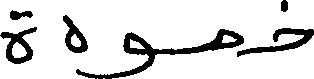ة: (0, 7, 37, 64)
خ: (270, 0, 312, 52)
م: (216, 27, 242, 57)
ه: (56, 12, 93, 57)
و: (120, 29, 153, 77)
